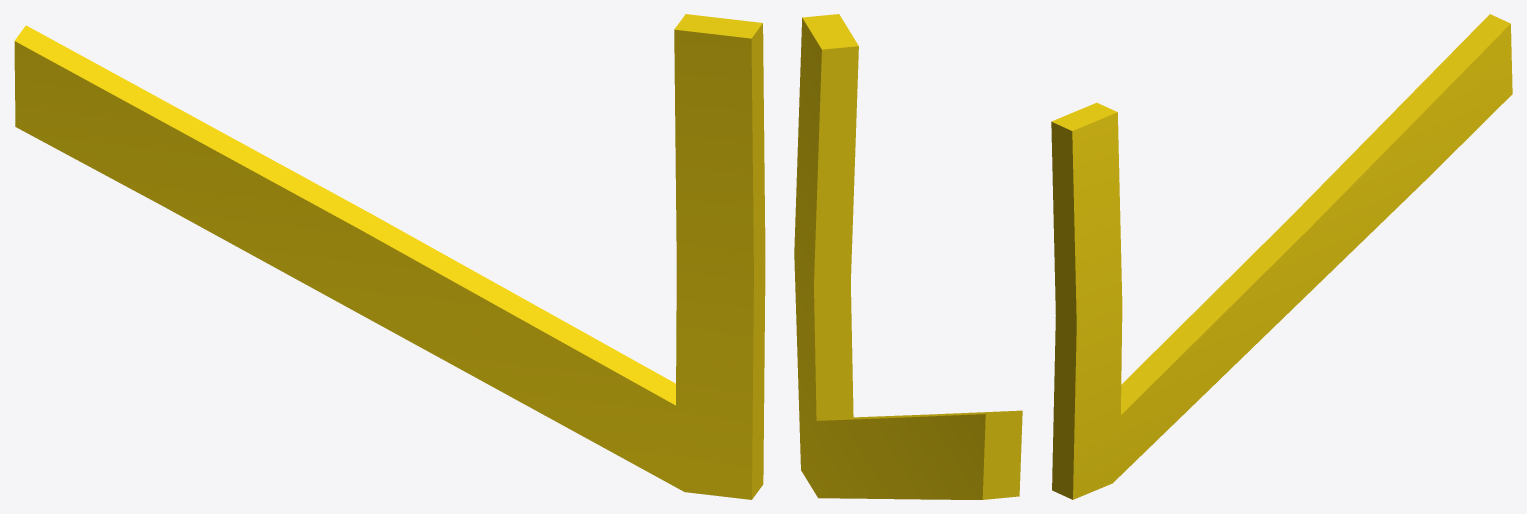
Rendered from Number_7.gltf.
The picture shows the model from 3 angles, left to right: view 1: azimuth 30°, elevation 25°; view 2: azimuth 150°, elevation 25°; view 3: azimuth 270°, elevation 25°; orthographic projection. The views are drawn at different scales.
Parts seen in each view (by area): view 1: Sub_1_Cell_3_2_Number_7; view 2: Sub_1_Cell_3_2_Number_7; view 3: Sub_1_Cell_3_2_Number_7.
Part boxes in pixels (box(x1,y1,x2,y2)): Sub_1_Cell_3_2_Number_7: box(14, 14, 765, 499); Sub_1_Cell_3_2_Number_7: box(794, 14, 1022, 499); Sub_1_Cell_3_2_Number_7: box(1051, 14, 1512, 499).
Size of the model in its own units: 0.0187 by 0.0168 by 0.019.
